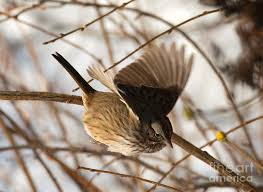hsparrow: (45, 40, 198, 168)
